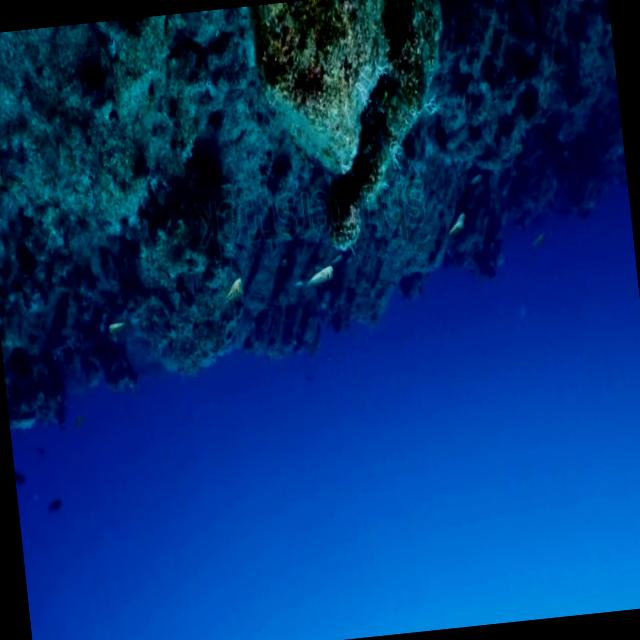Balon Baligi: (216, 268, 254, 308), (302, 258, 338, 300), (446, 210, 470, 242), (103, 314, 128, 342)
